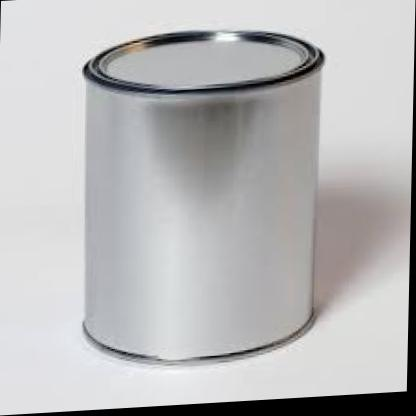Metal: (41, 0, 362, 390)
